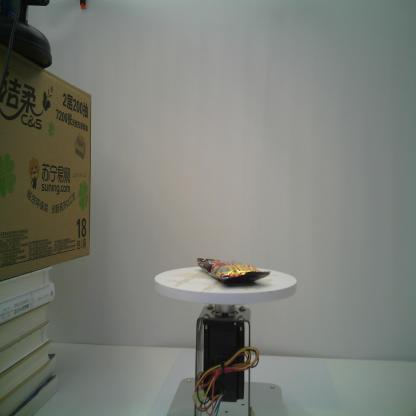Chocolate: (197, 257, 271, 282)
